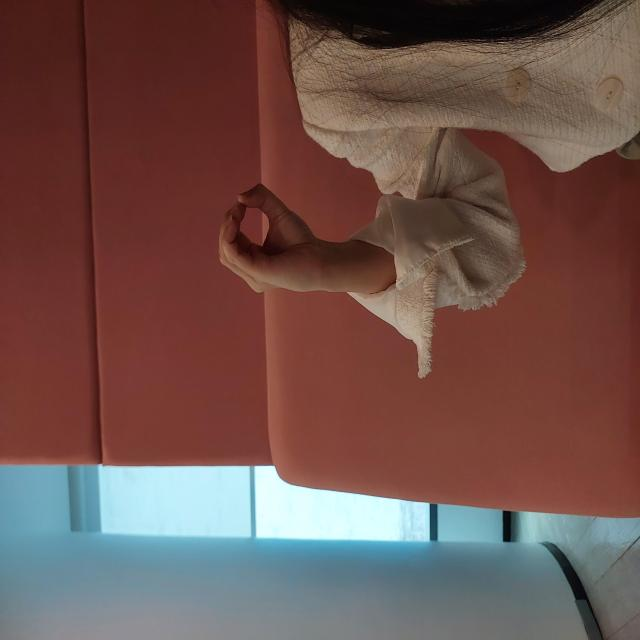O: (347, 218, 459, 316)
